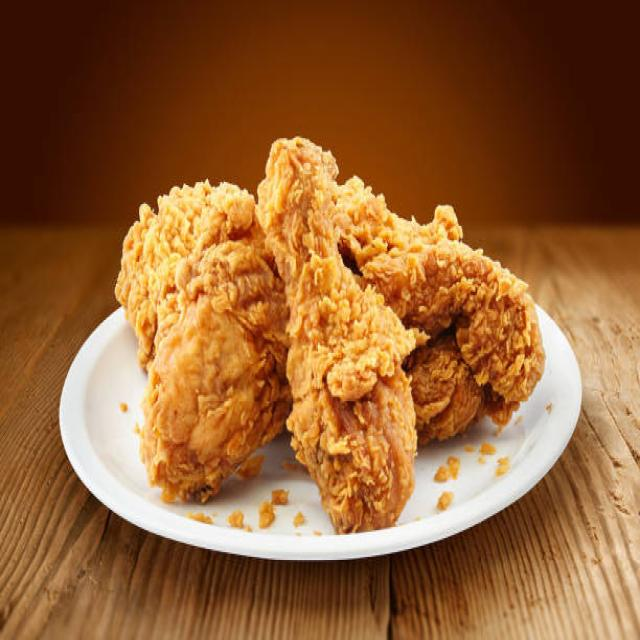Frango: (114, 132, 546, 549)
